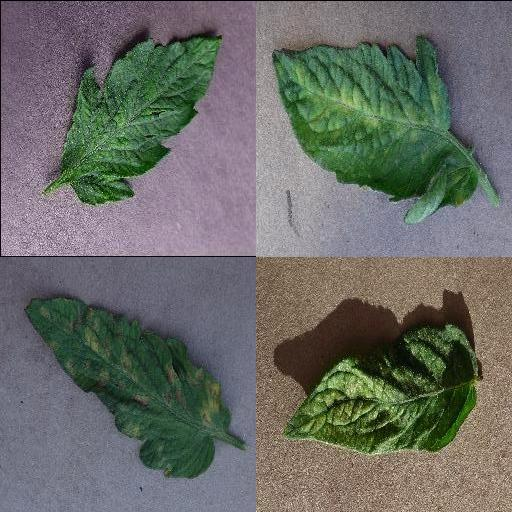Leaf Mold: (272, 33, 478, 222), (24, 295, 230, 476)
Mosaic Virus: (59, 34, 223, 207)
Spider Mites: (283, 324, 475, 454)
